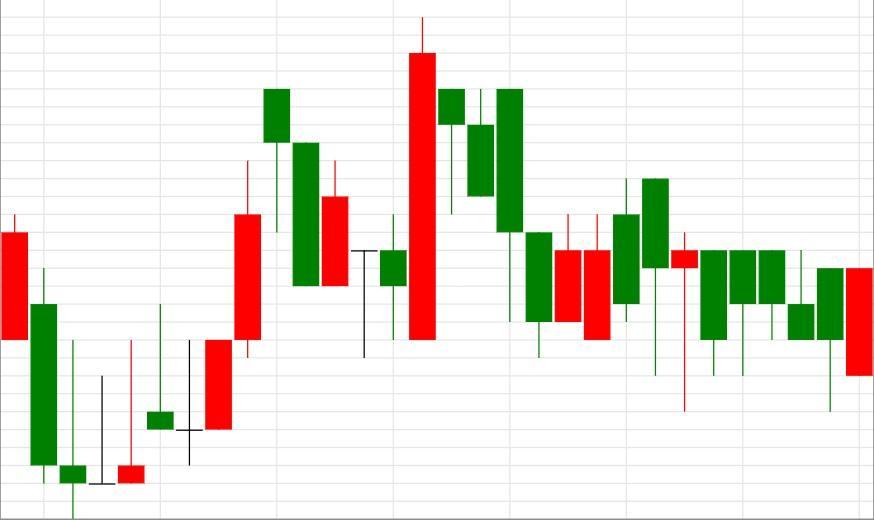bullish_engulfing_rise: (263, 16, 438, 359)
inverse_hammer_rise: (0, 214, 145, 520)
